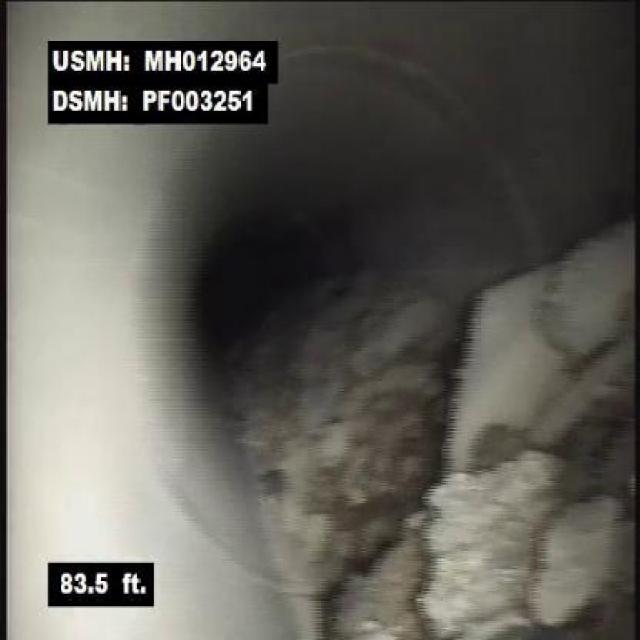Obstacle: (417, 217, 640, 638), (312, 468, 417, 638)
